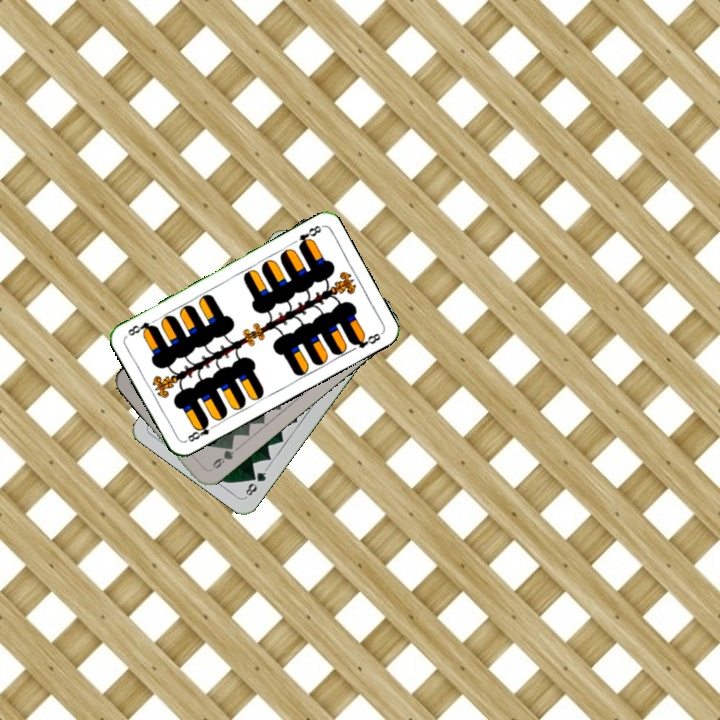E8: (181, 417, 219, 445), (294, 221, 325, 251)
G8: (241, 465, 270, 500)
G9: (205, 440, 236, 474)
